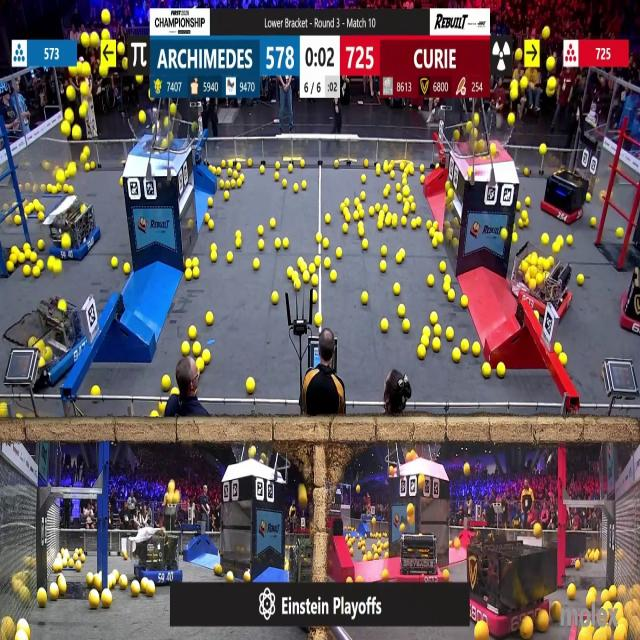ball_airborne: (297, 486, 307, 508), (511, 85, 520, 102), (62, 120, 71, 136), (72, 126, 81, 141), (68, 87, 76, 102), (102, 9, 110, 24), (79, 103, 87, 118), (80, 83, 88, 98), (100, 63, 108, 78), (546, 58, 554, 72), (82, 63, 90, 77), (533, 524, 541, 538), (66, 109, 74, 122), (507, 112, 515, 125), (92, 33, 100, 46), (80, 33, 88, 46), (547, 77, 555, 90), (520, 76, 528, 88), (541, 28, 549, 40), (512, 79, 520, 91), (549, 76, 557, 88), (116, 43, 124, 55), (173, 491, 180, 504), (408, 503, 415, 515), (517, 48, 524, 60), (539, 144, 546, 155), (515, 51, 522, 62), (140, 111, 146, 123), (82, 148, 88, 160), (121, 59, 127, 71), (170, 481, 176, 493), (478, 140, 485, 150), (102, 30, 109, 40), (83, 146, 90, 156), (474, 141, 481, 151), (171, 104, 177, 115), (249, 448, 255, 458), (454, 132, 460, 141), (490, 144, 495, 154), (473, 112, 478, 122), (137, 76, 143, 84), (165, 116, 170, 125), (472, 130, 477, 138), (164, 140, 169, 148), (44, 162, 48, 171)
ball_ground: (101, 590, 112, 608), (37, 589, 46, 607), (246, 378, 255, 394), (483, 362, 492, 377), (181, 342, 190, 357), (497, 362, 505, 376), (418, 346, 426, 359), (397, 305, 405, 318), (432, 324, 440, 336), (461, 341, 468, 354), (393, 283, 400, 295), (447, 327, 454, 339), (316, 313, 322, 327), (430, 312, 437, 324), (402, 320, 409, 332), (422, 326, 430, 336), (361, 291, 367, 304), (6, 263, 13, 274), (441, 262, 447, 274), (273, 292, 279, 304), (428, 275, 434, 287), (330, 271, 336, 283), (192, 269, 198, 280), (226, 571, 232, 582), (37, 241, 44, 250), (258, 240, 264, 250), (186, 270, 192, 280), (337, 248, 343, 258), (362, 240, 368, 250), (283, 239, 289, 249), (566, 236, 572, 246), (400, 216, 406, 226), (257, 224, 263, 234), (312, 276, 318, 286), (448, 290, 454, 300), (212, 251, 217, 262), (343, 223, 349, 232), (227, 252, 232, 262), (591, 216, 596, 226), (368, 208, 374, 216), (396, 183, 402, 191), (208, 199, 213, 208), (209, 220, 214, 229), (587, 192, 592, 200), (360, 191, 365, 199), (348, 576, 353, 584), (514, 234, 518, 243), (361, 175, 365, 183), (224, 191, 228, 199), (276, 172, 280, 180), (403, 206, 407, 213)
robot_blue: (4, 295, 92, 388), (46, 200, 100, 262), (134, 532, 184, 587)
robot_red: (463, 534, 560, 630), (513, 252, 574, 316), (399, 524, 441, 584), (544, 167, 587, 222)
